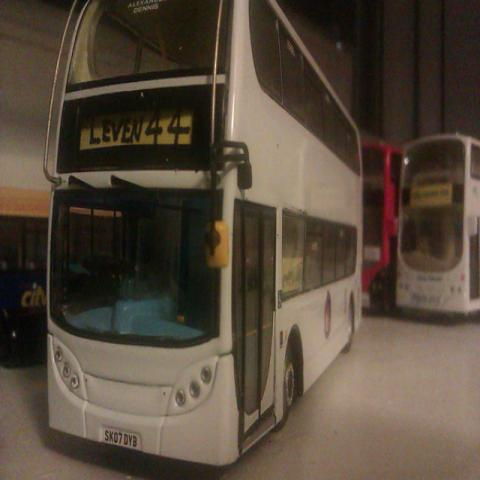bus: (42, 2, 364, 468), (399, 139, 478, 317), (360, 139, 402, 318)
